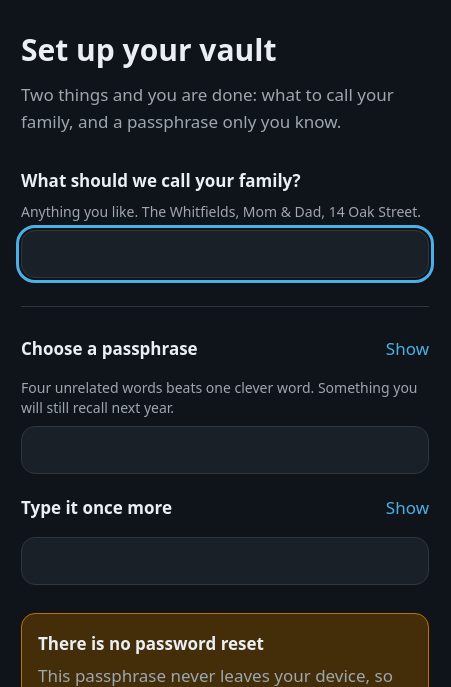
Scenario: refusing to reuse the sign-in password as the passphrase › opens up again once a different passphrase is chosen
The image size is (451, 687).
In the field labelled "What should we call your family?": (225, 254) left=21, top=230, right=429, bottom=278, type "Whitfield"
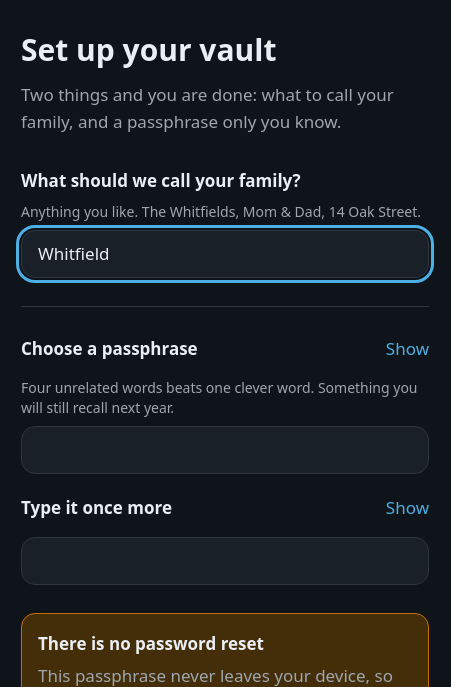
In the password field named "Choose a passphrase": (225, 450) left=21, top=426, right=429, bottom=474, type "the sign-in password"
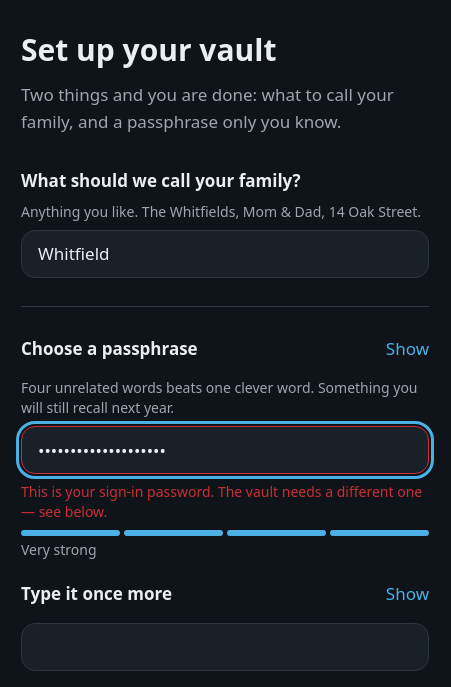
In the password field named "Type it once more": (225, 647) left=21, top=623, right=429, bottom=671, type "the sign-in password"
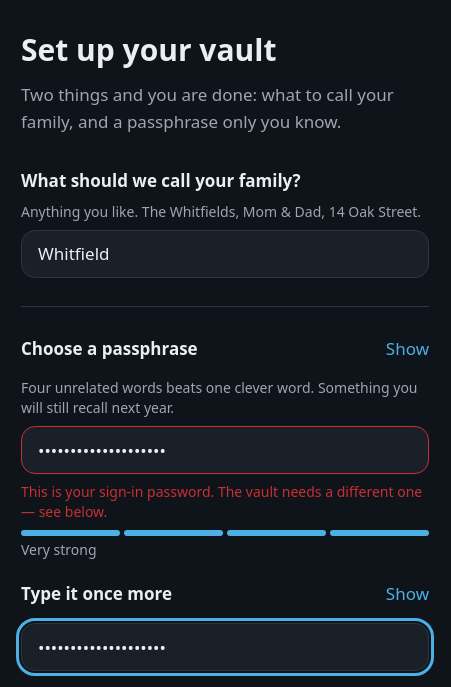
In the password field named "Choose a passphrase": (225, 450) left=21, top=426, right=429, bottom=474, type "the right passphrase"
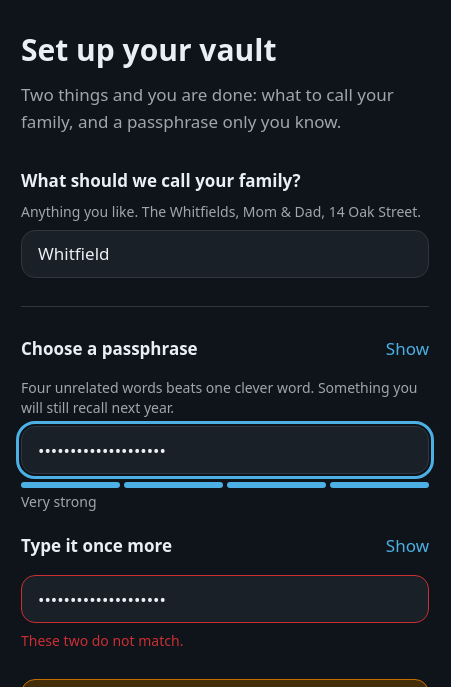
In the password field named "Type it once more": (225, 599) left=21, top=575, right=429, bottom=623, type "the right passphrase"
(page scrolled)
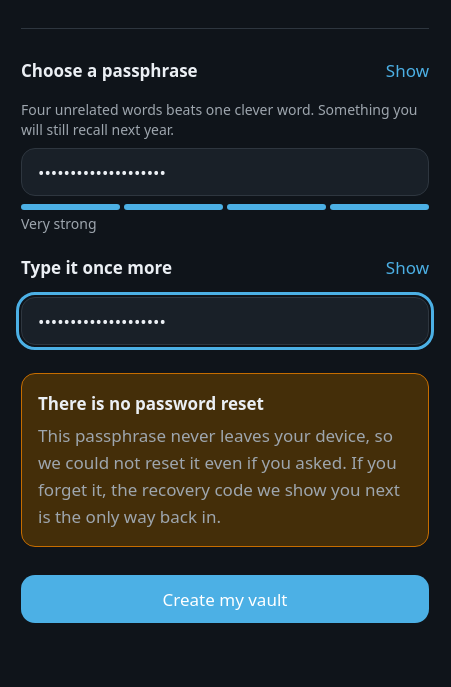
Check: the text "This is your sign-in password" is not shown
Check: the button "Create my vault" is enabled, box left=21, top=575, right=429, bottom=623
